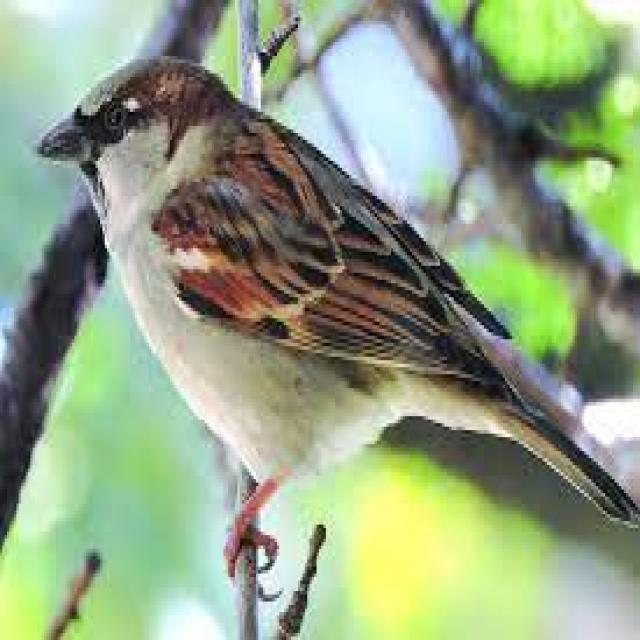bird: (30, 54, 630, 525)
